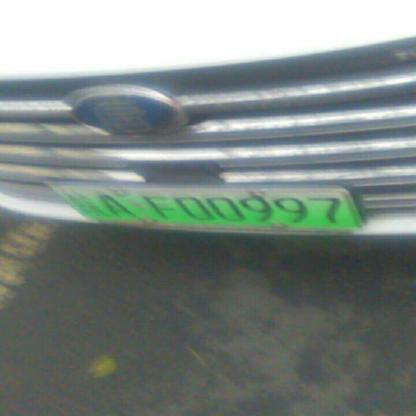lp: (48, 184, 88, 228)
